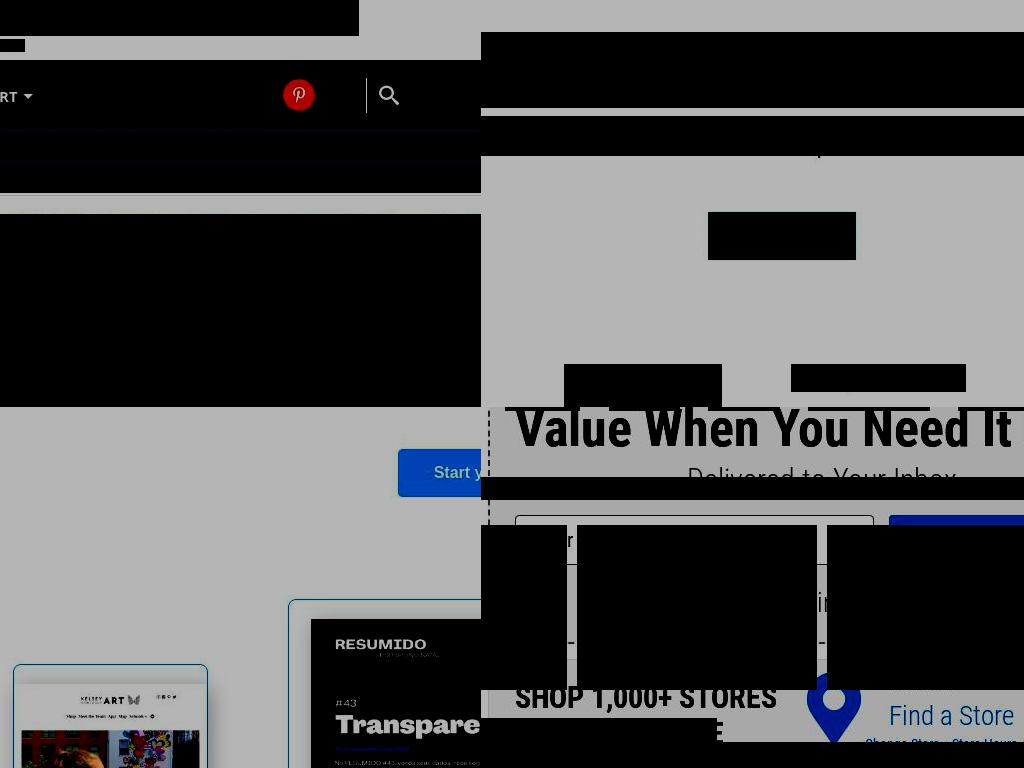button: (0, 214, 481, 407), (0, 131, 481, 162), (708, 212, 856, 260), (889, 515, 1024, 565), (43, 60, 121, 130), (396, 448, 481, 499), (114, 163, 235, 193), (0, 60, 44, 130), (235, 163, 330, 193), (330, 163, 410, 193), (410, 163, 481, 193), (11, 163, 71, 193), (71, 163, 114, 193), (0, 163, 11, 193)
field: (515, 515, 874, 565)
heading: (0, 407, 481, 768), (481, 32, 1024, 108), (515, 407, 1024, 455), (515, 465, 1024, 495), (481, 477, 1024, 500), (564, 364, 722, 407), (791, 364, 966, 392)
image: (481, 407, 1024, 768), (0, 214, 481, 407), (577, 525, 817, 690), (827, 525, 1024, 690), (310, 619, 481, 768), (14, 684, 207, 768), (481, 525, 567, 690), (0, 131, 285, 162), (207, 79, 239, 111), (245, 79, 277, 111), (283, 79, 315, 111), (321, 79, 353, 111), (459, 79, 481, 111)
link: (865, 736, 948, 752), (952, 736, 1024, 752)
text: (489, 670, 803, 762), (481, 116, 1024, 156), (515, 590, 1024, 617), (481, 718, 717, 743), (889, 700, 1015, 732), (888, 670, 1015, 701), (0, 39, 25, 52)
